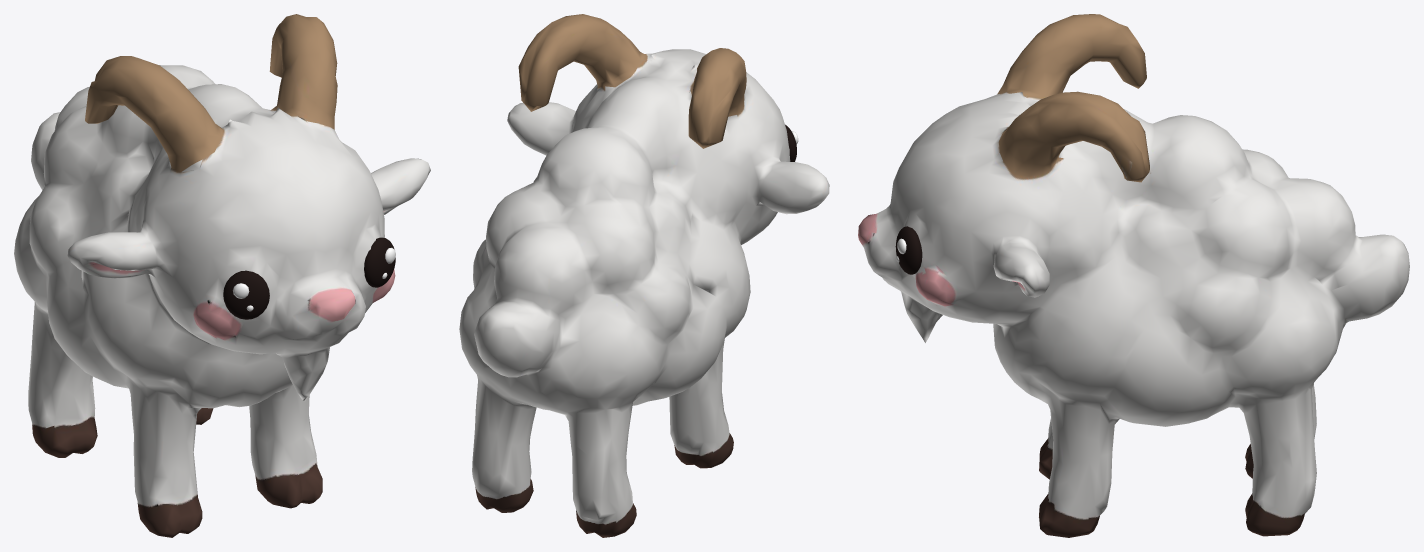
File: goat.glb
3 views of the same model, side by side, from view 1: azimuth 30°, elevation 25°; view 2: azimuth 150°, elevation 25°; view 3: azimuth 270°, elevation 25° (orthographic). The views are drawn at different scales.
Visible parts, largest first — view 1: Mesh_0.001; view 2: Mesh_0.001; view 3: Mesh_0.001.
Boxes of the visible parts, x1,y1,x2,y2 form: Mesh_0.001: [14, 14, 430, 537]; Mesh_0.001: [459, 14, 829, 537]; Mesh_0.001: [858, 14, 1409, 537].
Bounding box in the file's own units: 1.37 × 1.69 × 1.89.
1 material, 1 textured.
